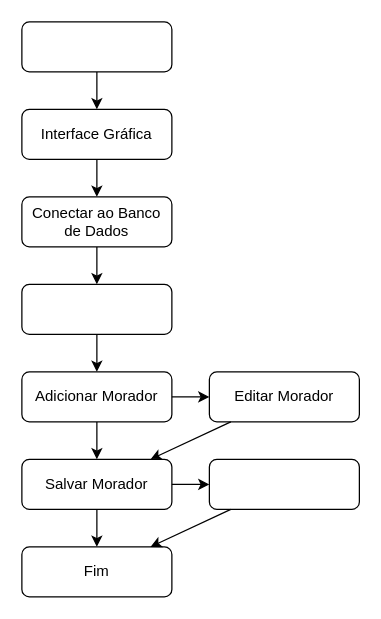
This 381x619 diagram has some shape labels left out. The centre of each missing label's shape, as x and y in pixels:
Carregar Dados: (x=96, y=308)
Excluir Morador: (x=283, y=483)
Início: (x=96, y=46)
